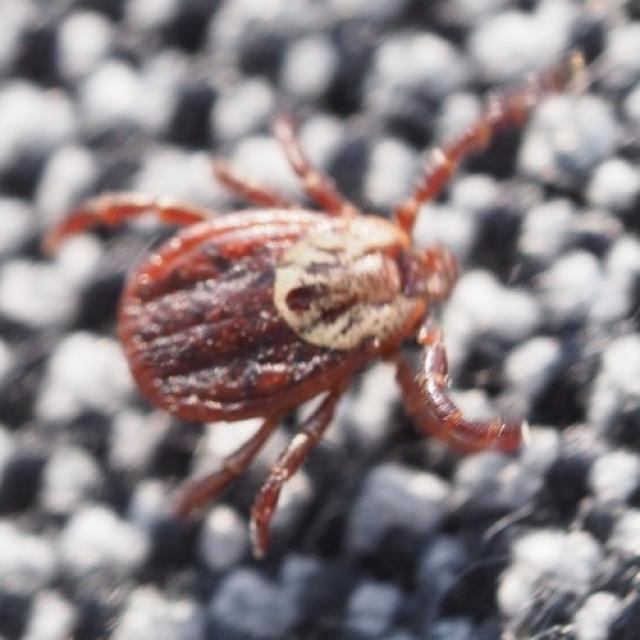Dermacentor Reticulatus-F: (44, 79, 541, 561)
